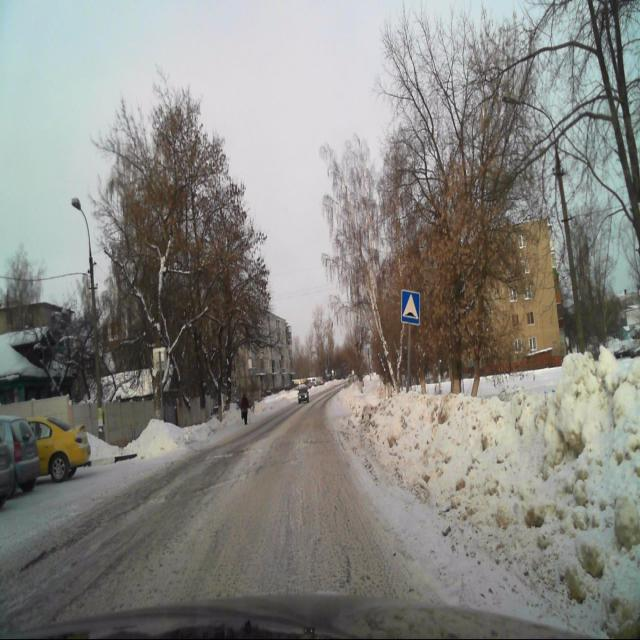road sign: (400, 289, 420, 326)
